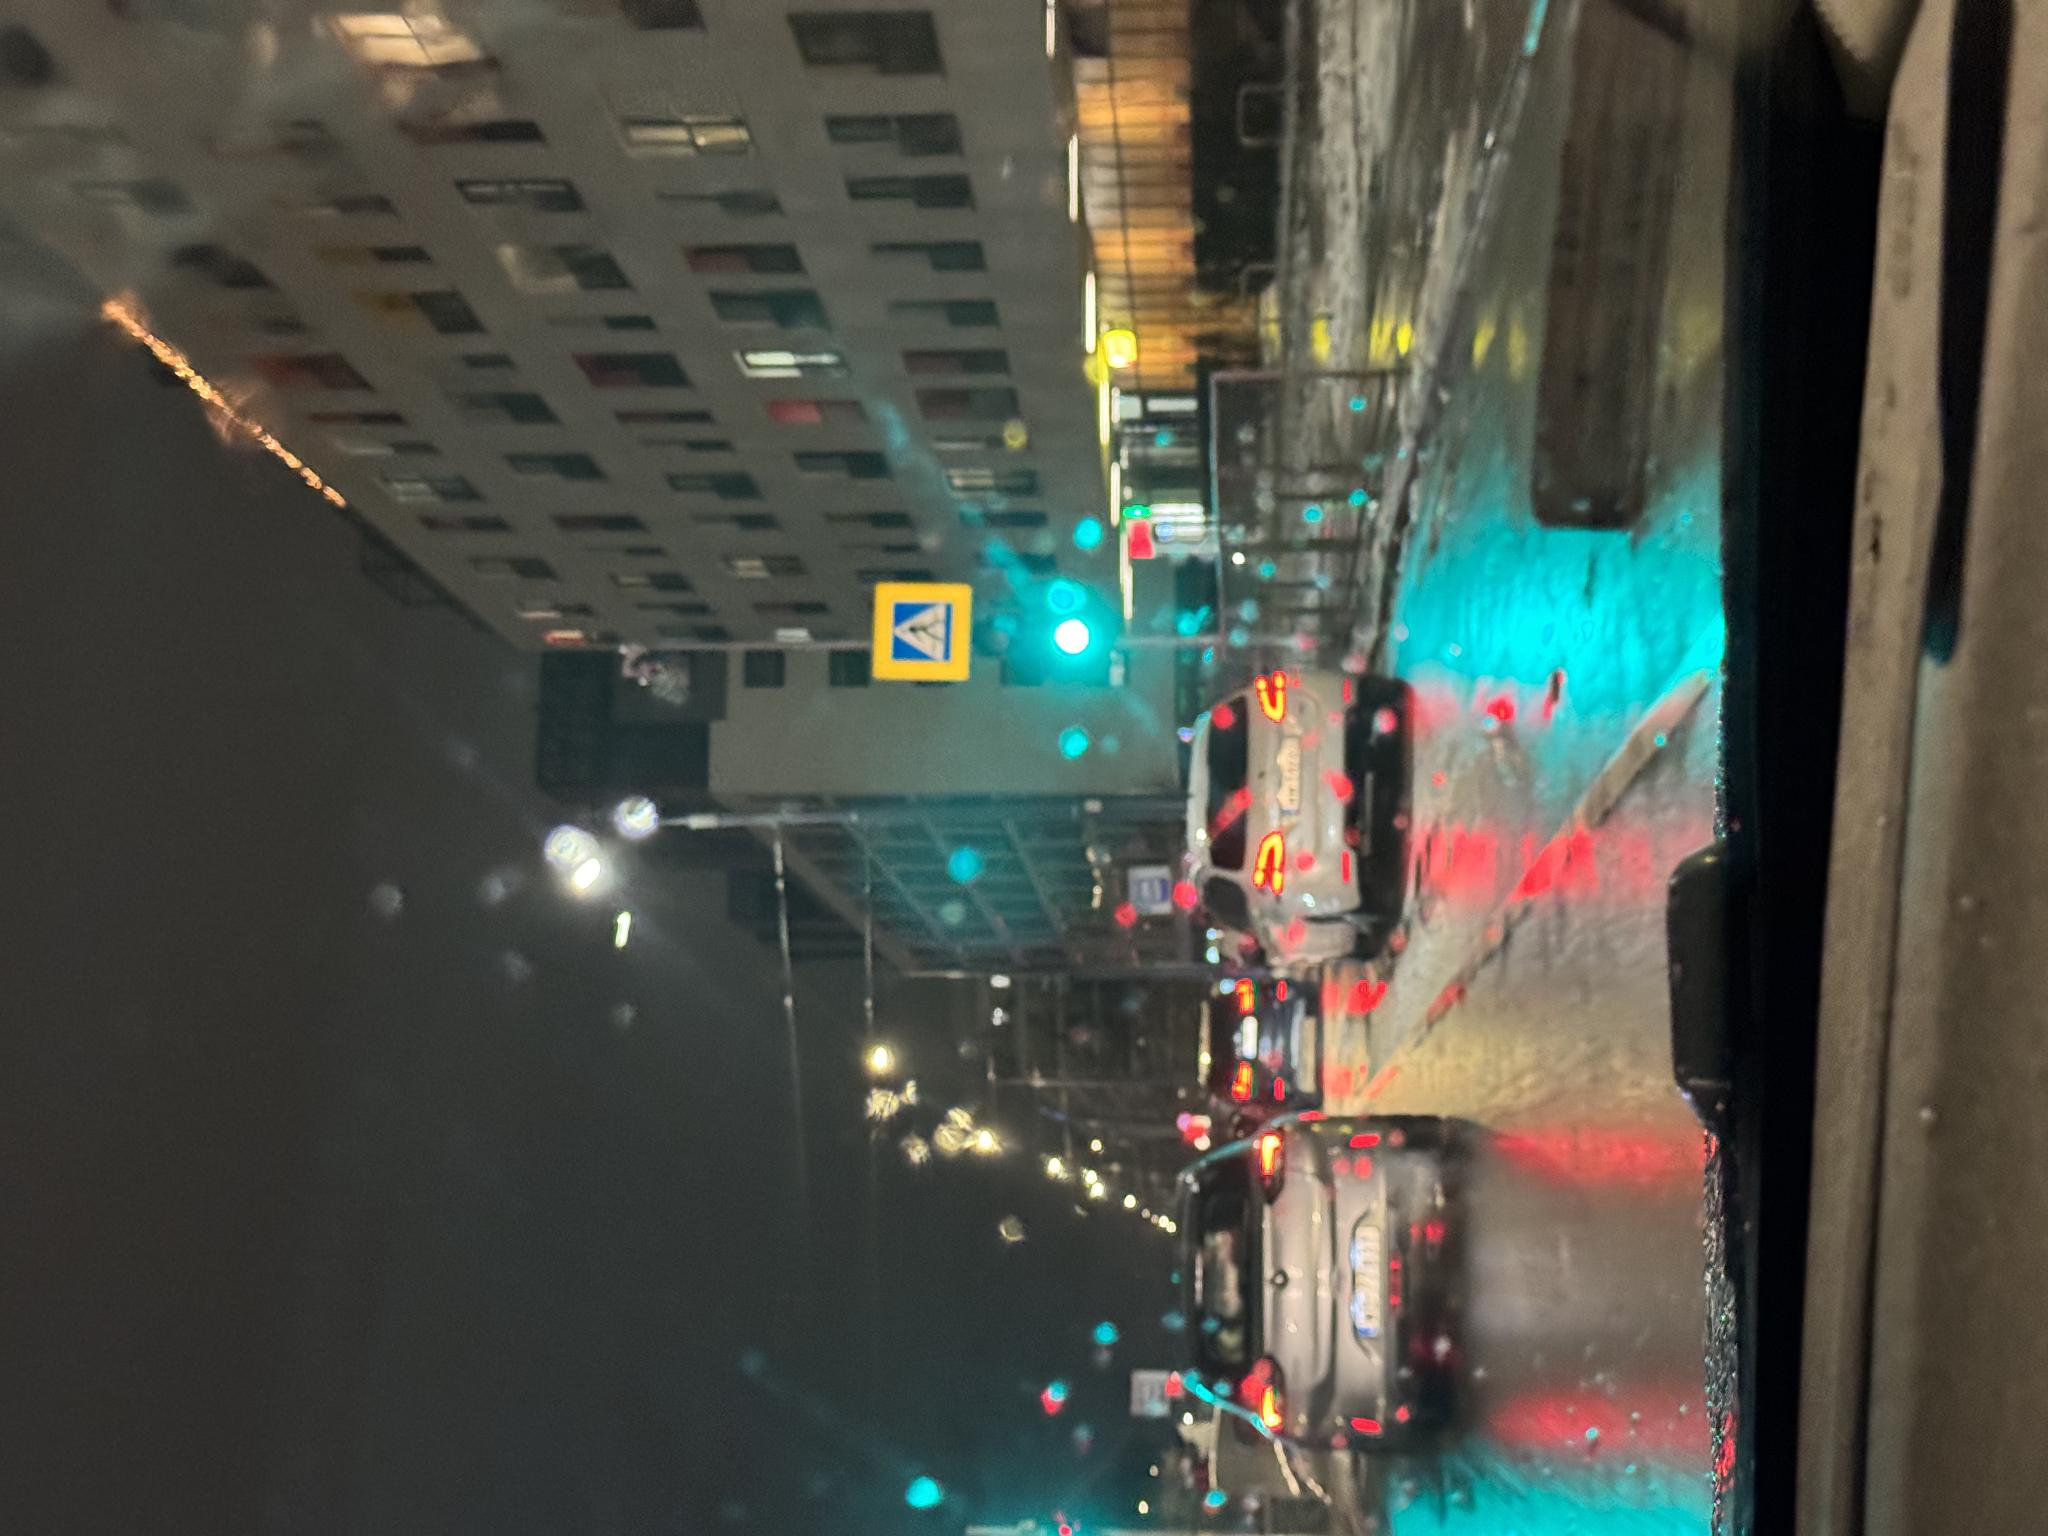information: (874, 892, 932, 955)
